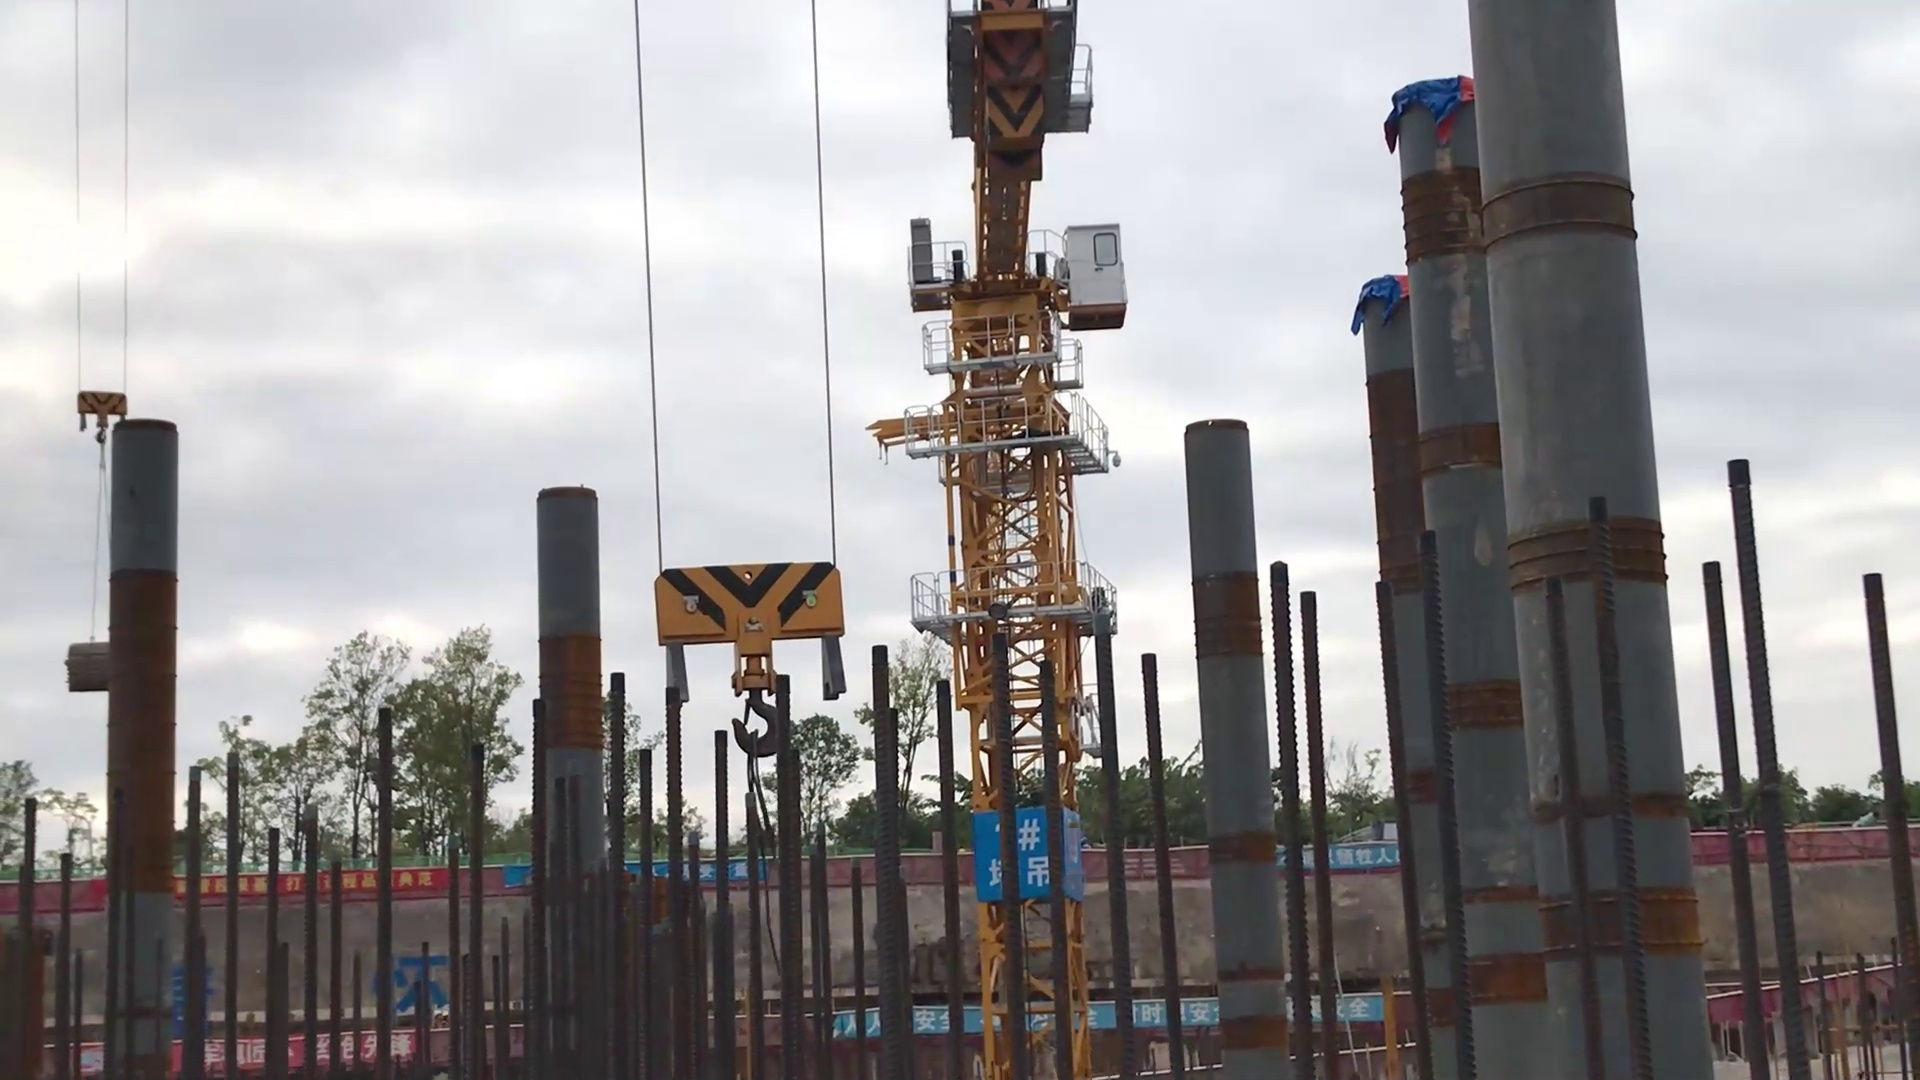fence: (15, 812, 1915, 918)
hook: (640, 563, 851, 762), (69, 386, 131, 434)
slogan: (837, 994, 1389, 1029), (179, 1023, 417, 1063), (167, 868, 436, 894), (1280, 839, 1403, 873), (625, 861, 749, 882)
